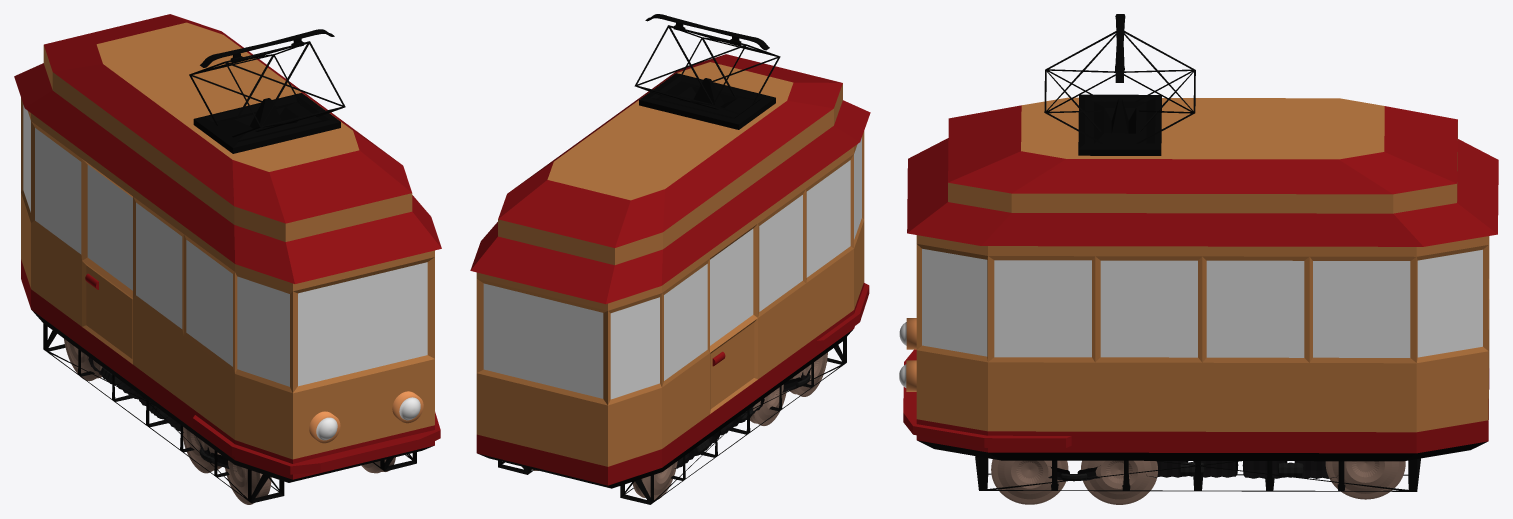
The model's file is uploads_files_2663136_train.fbx.
3 renders of one model, left to right at view 1: azimuth 30°, elevation 25°; view 2: azimuth 150°, elevation 25°; view 3: azimuth 270°, elevation 25°, orthographic. The views are drawn at different scales.
Visible parts, largest first — view 1: Cube.015; view 2: Cube.015; view 3: Cube.015.
Boxes of the visible parts, box(x1,y1,x2,y2) form: Cube.015: box(14, 14, 441, 504); Cube.015: box(470, 14, 870, 504); Cube.015: box(899, 14, 1498, 504).
Bounding box in the file's own units: 211 × 414 × 526.
